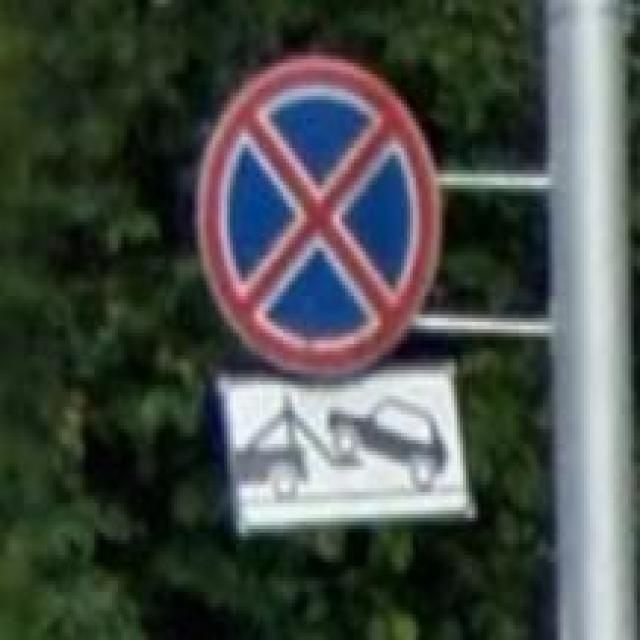traffic_sign: (195, 56, 442, 381)
